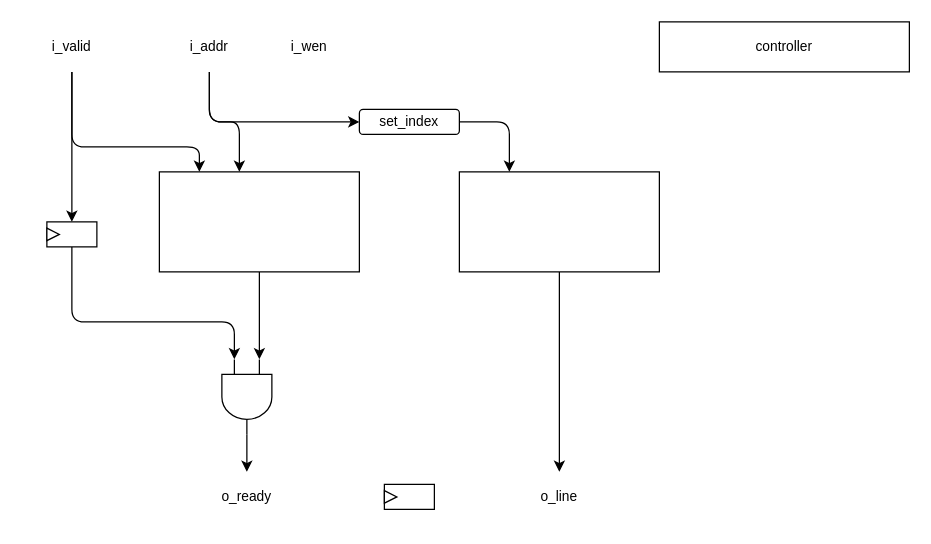
This 931x544 diagram has some shape labels left out. Here are the shapes that lost their labels. From the top down, the centre of each, then its label:
At pixel 258 221: "tag array".
At pixel 558 221: "data array".
